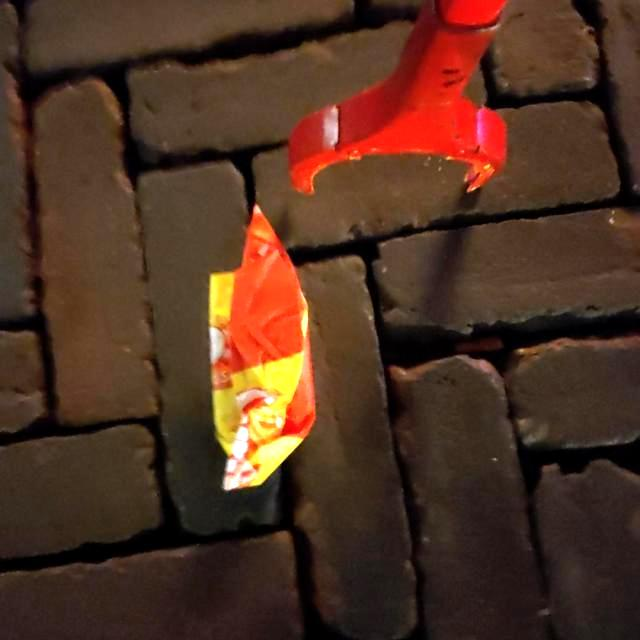Paper: (204, 200, 316, 492)
